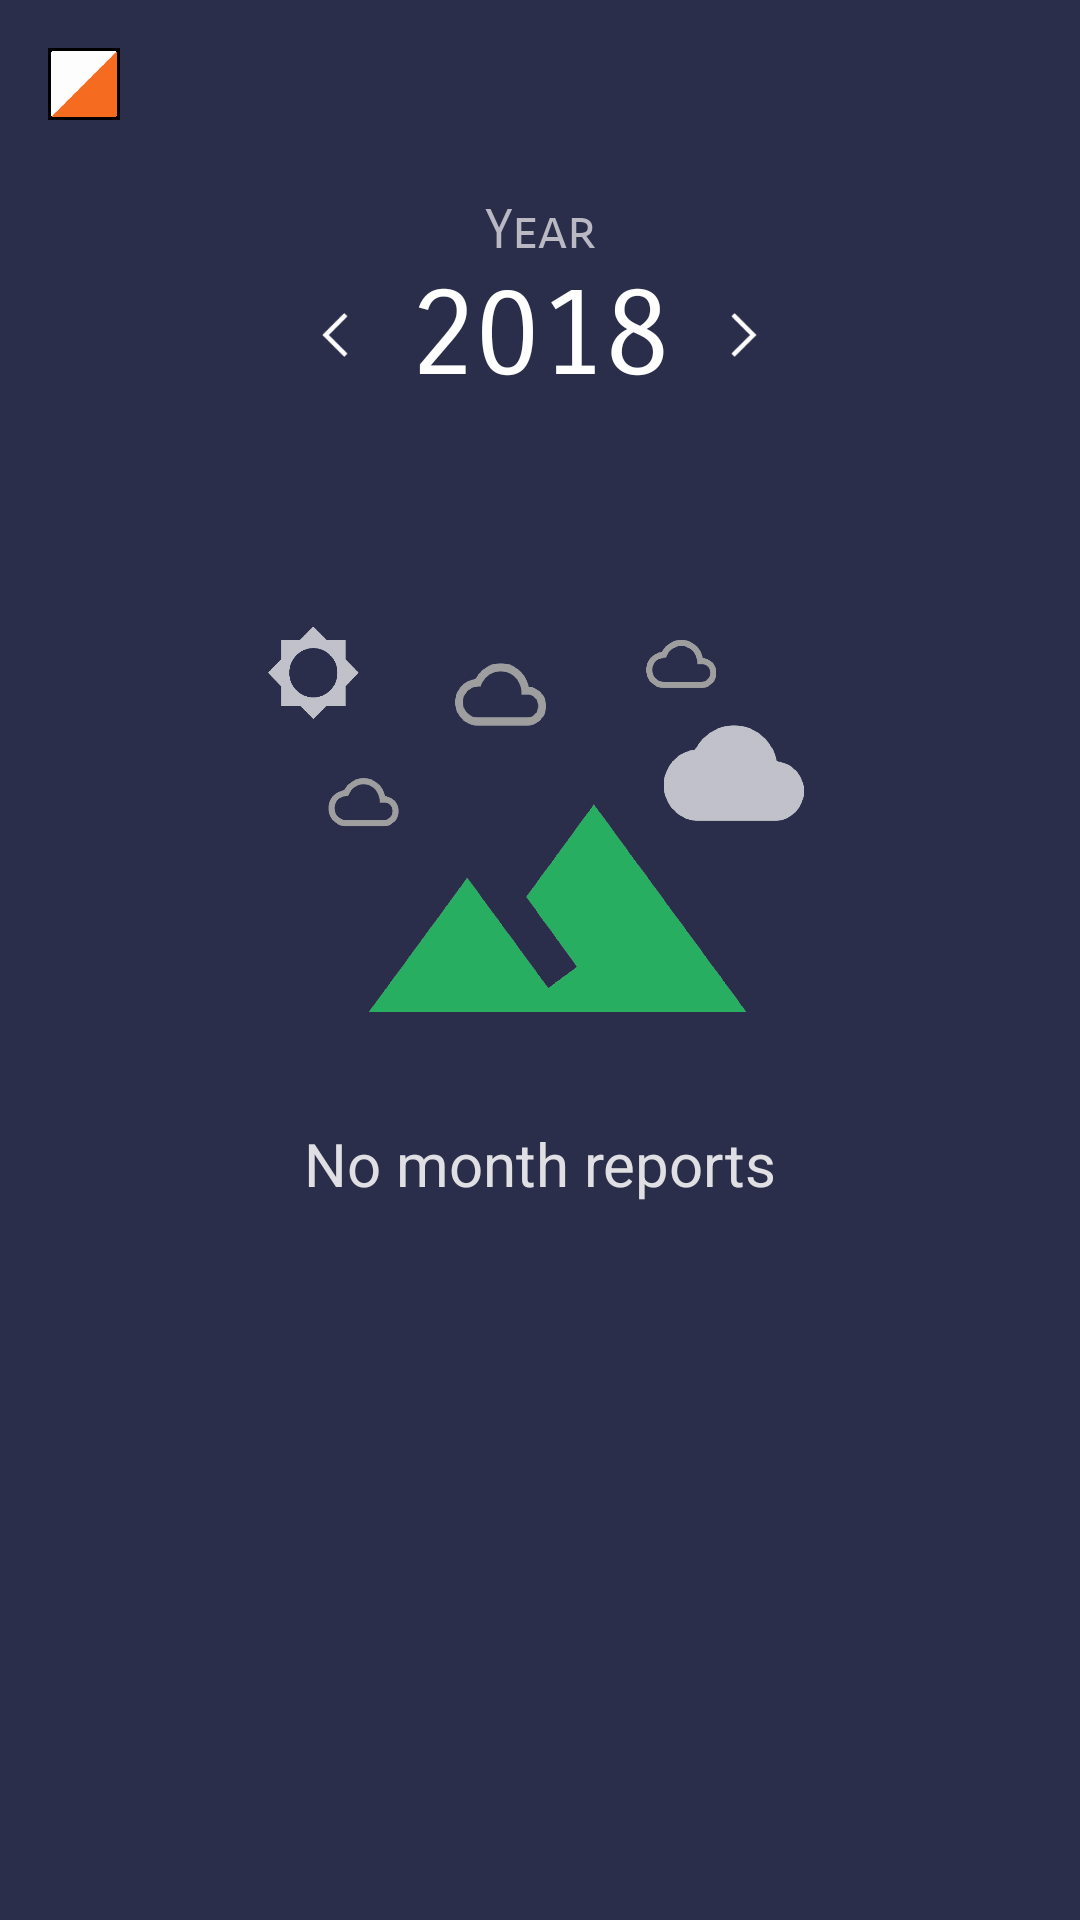

Icons on this 1080w x 1920h Android screen, each with its box as Rect(x1, y1, x2, y2):
left: Rect(322, 313, 348, 357)
orienteering symbol: Rect(48, 48, 120, 120)
right: Rect(731, 313, 757, 357)
